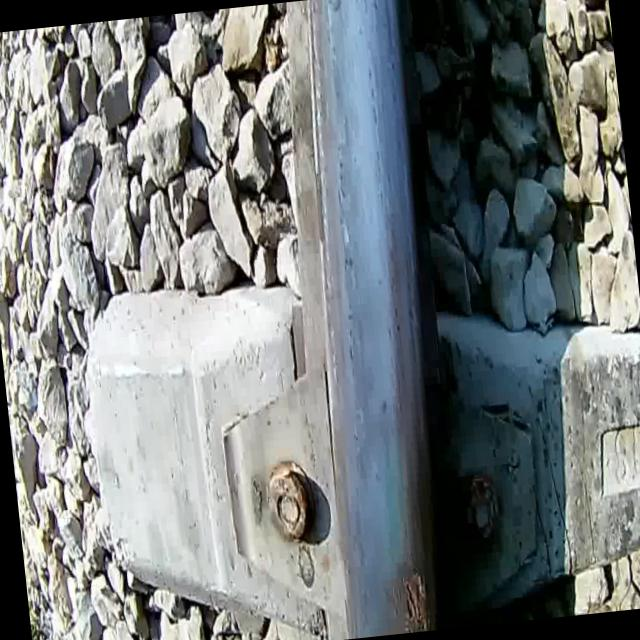Spallings: (396, 564, 434, 633)
Squats: (360, 543, 438, 637)
